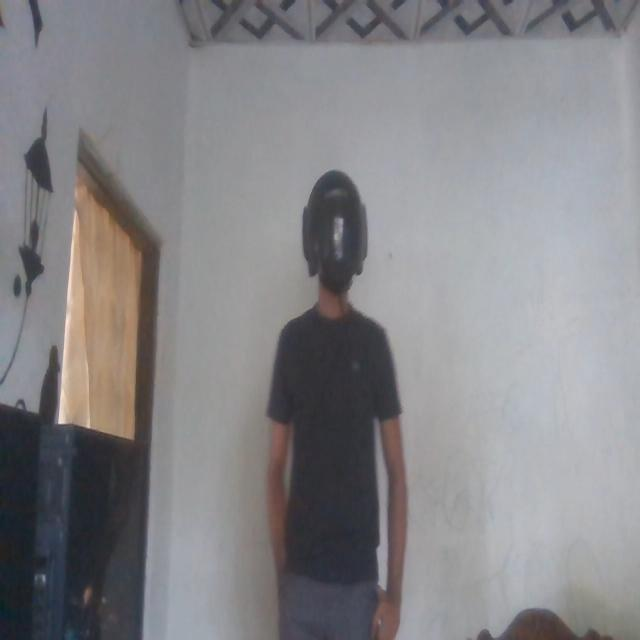Helmet_Wearer: (297, 156, 371, 297)
Person: (257, 159, 420, 640)
